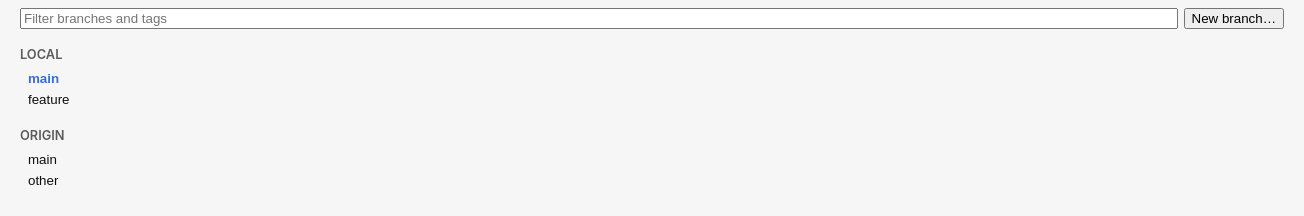
BranchesPanel filter › should match remote branches by their remote prefix
Expected: the heading "Local" is shown, [20,47,62,62]
In the search field labelled "Filter branches and tags": (599, 18) [20,8,1178,29], type "origin/o"
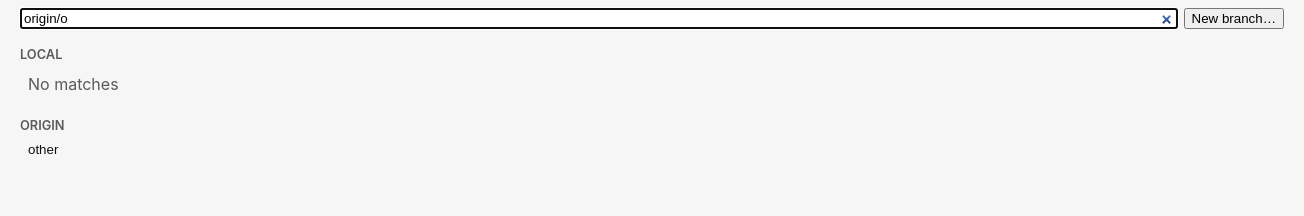
Expected: the button titled "refs/remotes/origin/main" is gone
